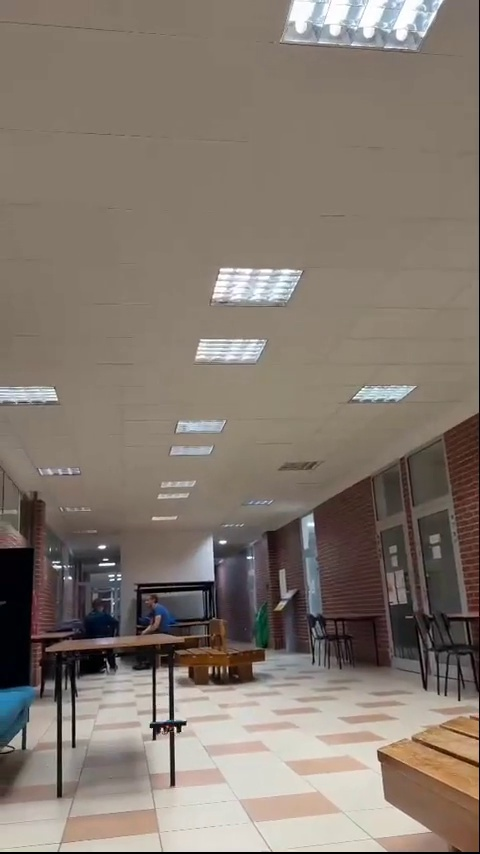drone: (151, 721, 186, 736)
no vest: (140, 593, 172, 636), (84, 600, 119, 635)
